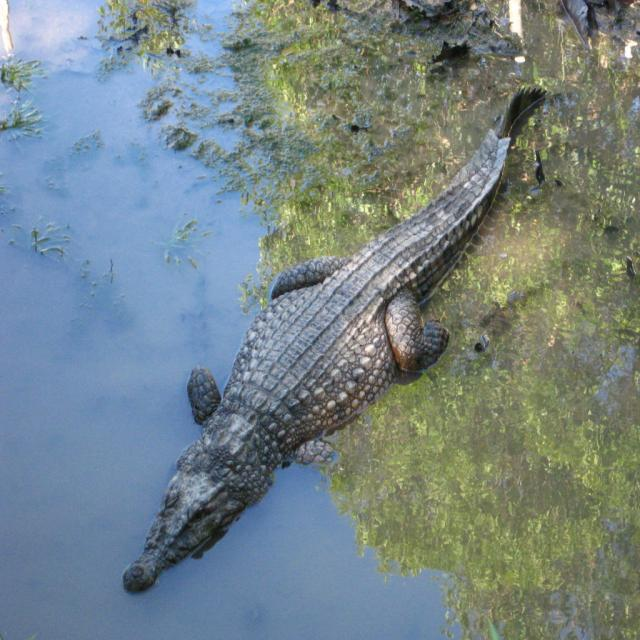crocodile: (117, 79, 550, 594)
